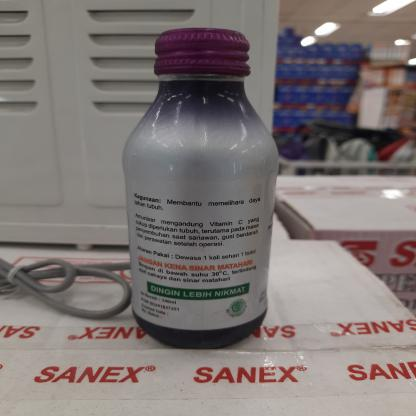bottle: (120, 22, 278, 347)
